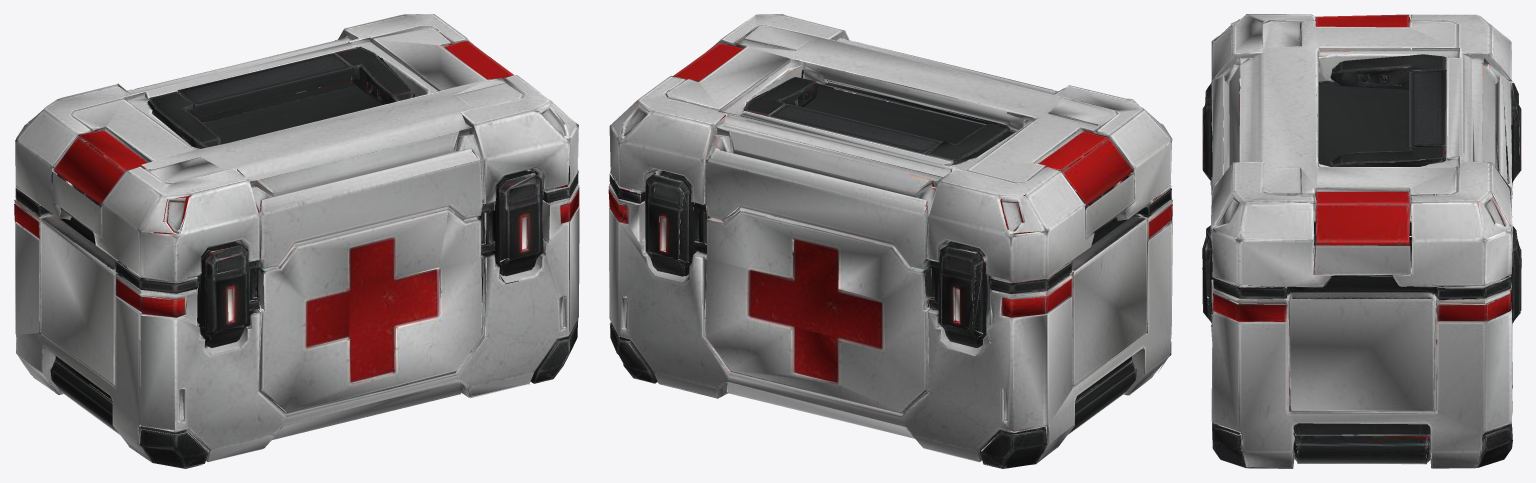
File: shop_medkit.glb
3 views of the same model, side by side, from view 1: azimuth 30°, elevation 25°; view 2: azimuth 150°, elevation 25°; view 3: azimuth 270°, elevation 25° (orthographic).
Parts seen in each view (by area): view 1: Mesh_0; view 2: Mesh_0; view 3: Mesh_0.
Part boxes in pixels (x1=…): Mesh_0: x1=14, y1=14, x2=579, y2=468; Mesh_0: x1=608, y1=14, x2=1172, y2=468; Mesh_0: x1=1202, y1=14, x2=1521, y2=468.
Size of the model in its own units: 0.4188 by 0.245 by 0.2663.
1 material, 1 textured.
